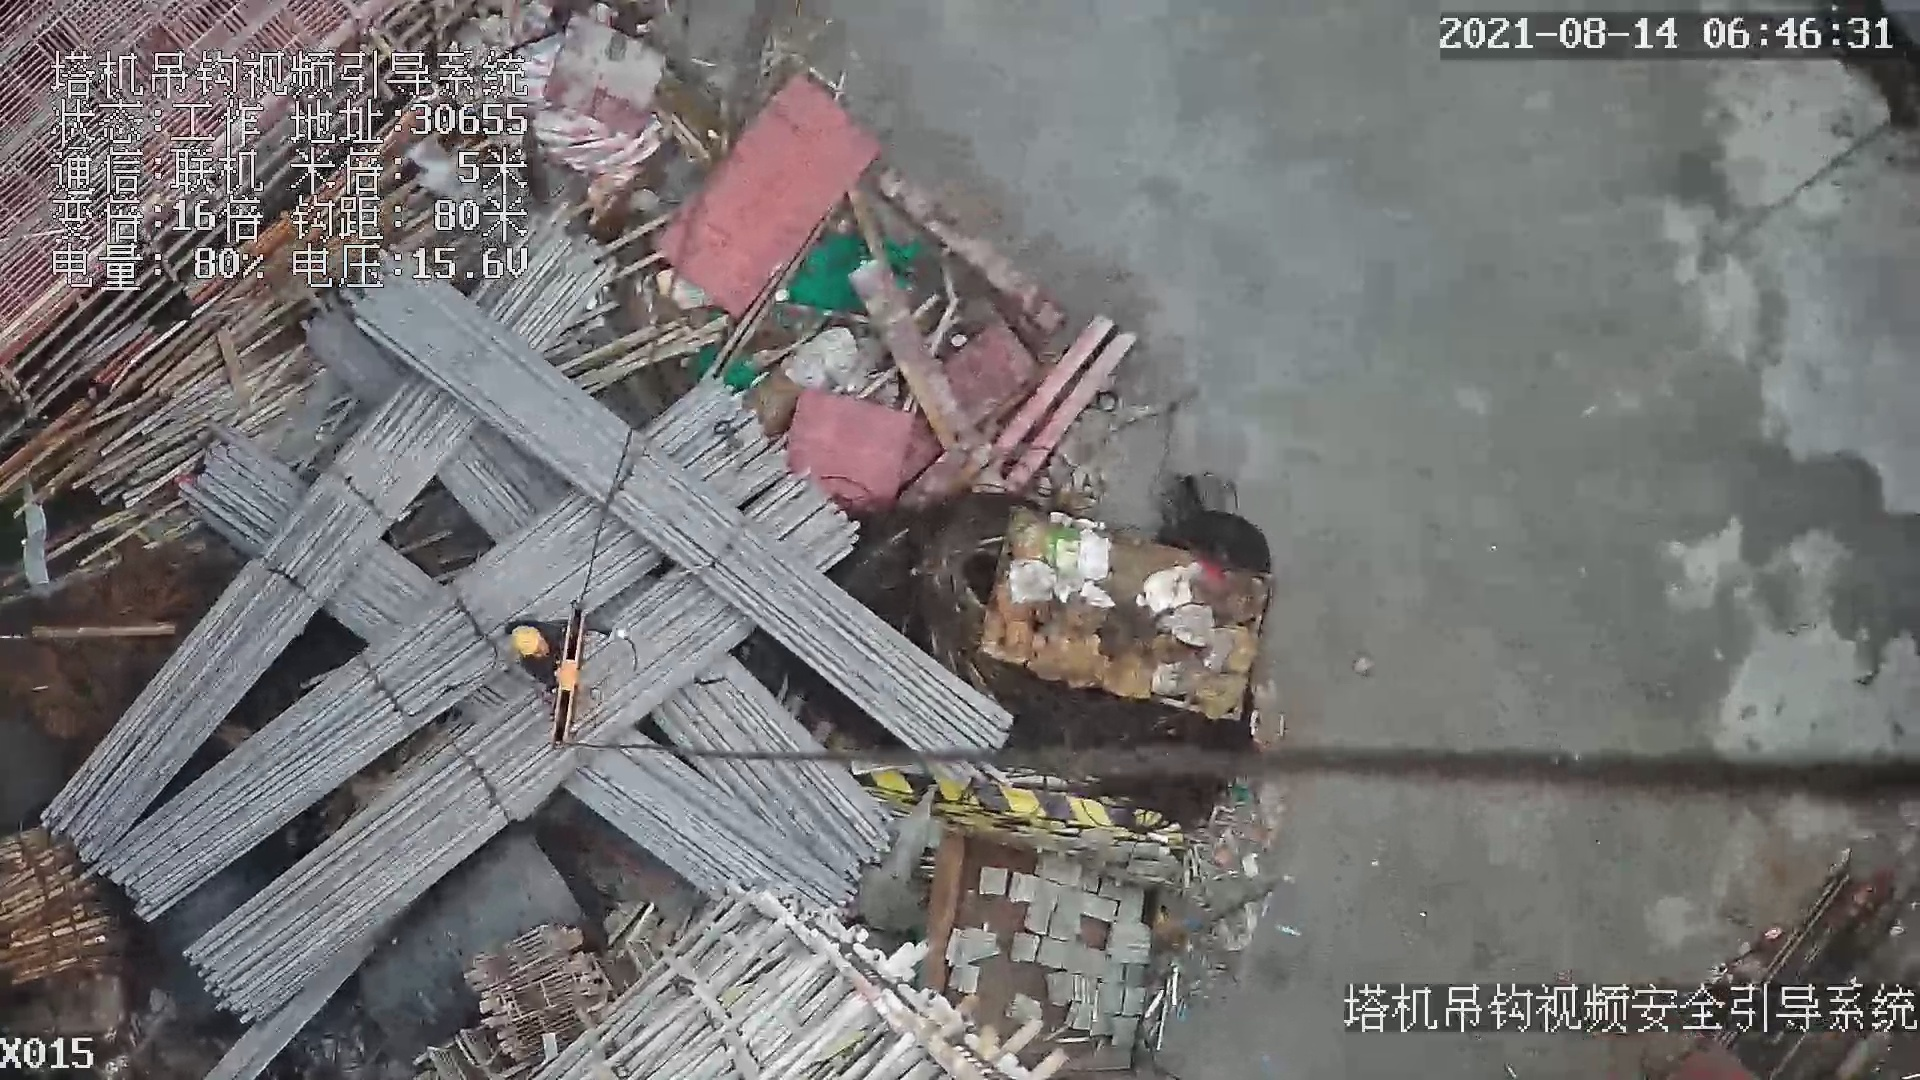board: (652, 78, 878, 305)
helmet: (512, 624, 536, 653)
hook: (540, 594, 596, 753)
person: (505, 612, 573, 689)
scaffold: (1, 822, 114, 979)
